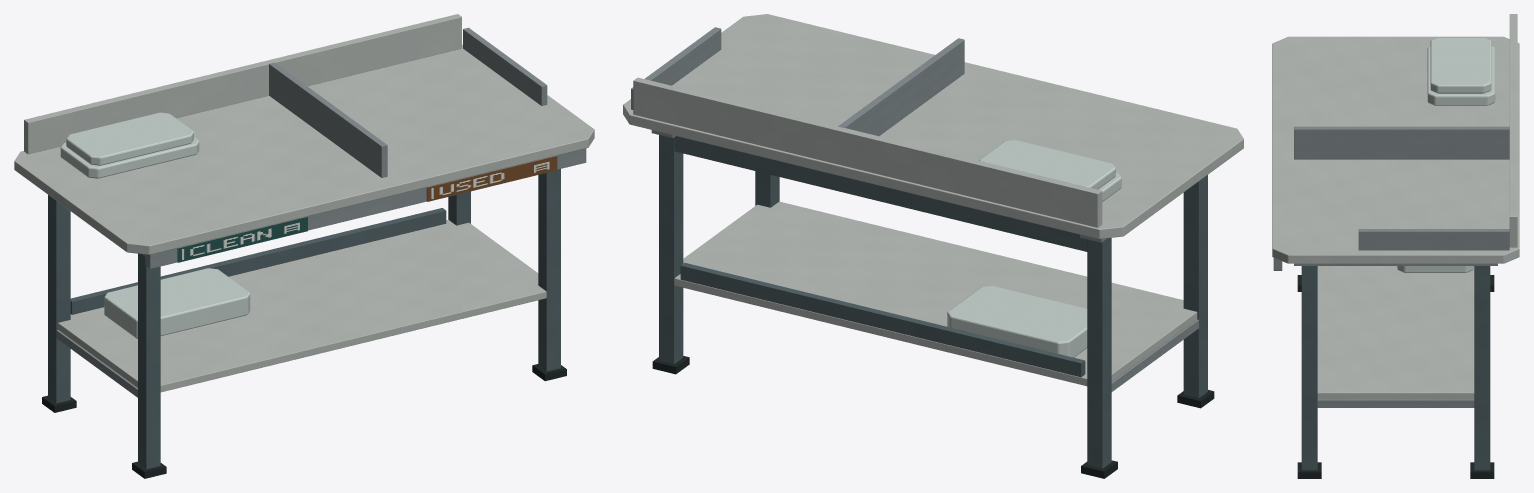
Rendered from AST-HSK-003.glb.
3 views of the same model, side by side, from view 1: azimuth 30°, elevation 25°; view 2: azimuth 150°, elevation 25°; view 3: azimuth 270°, elevation 25° (orthographic). The views are drawn at different scales.
Parts seen in each view (by area): view 1: AST-HSK-003__staff_white_paint, AST-HSK-003__staff_bluegrey_paint, AST-HSK-003__handling_linen, AST-HSK-003__staff_zinc, AST-HSK-003__staff_zinc__graphic, AST-HSK-003__staff_rubber; view 2: AST-HSK-003__staff_white_paint, AST-HSK-003__staff_bluegrey_paint, AST-HSK-003__handling_linen, AST-HSK-003__staff_zinc, AST-HSK-003__staff_rubber; view 3: AST-HSK-003__staff_white_paint, AST-HSK-003__staff_zinc, AST-HSK-003__staff_bluegrey_paint, AST-HSK-003__handling_linen, AST-HSK-003__staff_rubber.
Boxes of the visible parts, box(x1,y1,x2,y2) form: AST-HSK-003__staff_white_paint: box(14, 14, 594, 392); AST-HSK-003__staff_bluegrey_paint: box(48, 169, 560, 469); AST-HSK-003__handling_linen: box(60, 112, 250, 338); AST-HSK-003__staff_zinc: box(56, 27, 586, 397); AST-HSK-003__staff_zinc__graphic: box(177, 155, 557, 262); AST-HSK-003__staff_rubber: box(42, 364, 566, 478); AST-HSK-003__staff_white_paint: box(623, 14, 1243, 386); AST-HSK-003__staff_bluegrey_paint: box(659, 135, 1207, 468); AST-HSK-003__handling_linen: box(947, 140, 1121, 357); AST-HSK-003__staff_zinc: box(631, 27, 1198, 391); AST-HSK-003__staff_rubber: box(652, 356, 1214, 478); AST-HSK-003__staff_white_paint: box(1272, 14, 1519, 399); AST-HSK-003__staff_zinc: box(1273, 126, 1509, 407); AST-HSK-003__staff_bluegrey_paint: box(1301, 266, 1490, 470); AST-HSK-003__handling_linen: box(1397, 37, 1495, 272); AST-HSK-003__staff_rubber: box(1297, 275, 1494, 478).
Bounding box in the file's own units: 1.8 × 1.02 × 0.86.
7 materials, 7 textured.
